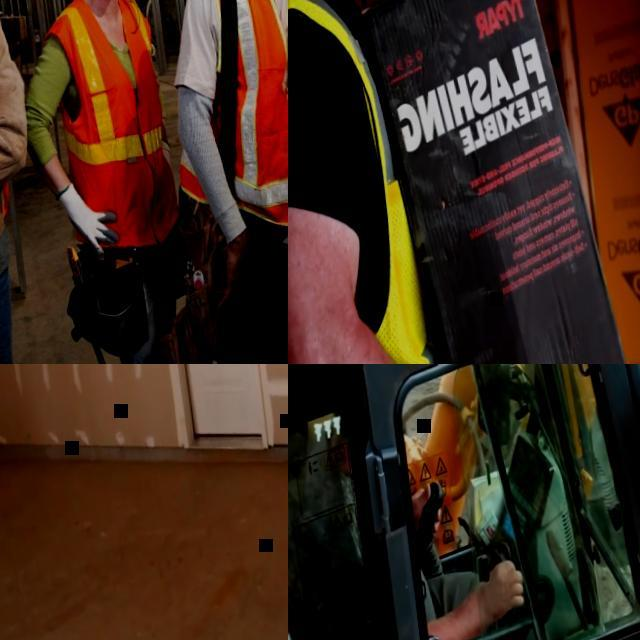vest: (288, 0, 462, 364), (36, 0, 186, 254), (149, 0, 288, 243)
